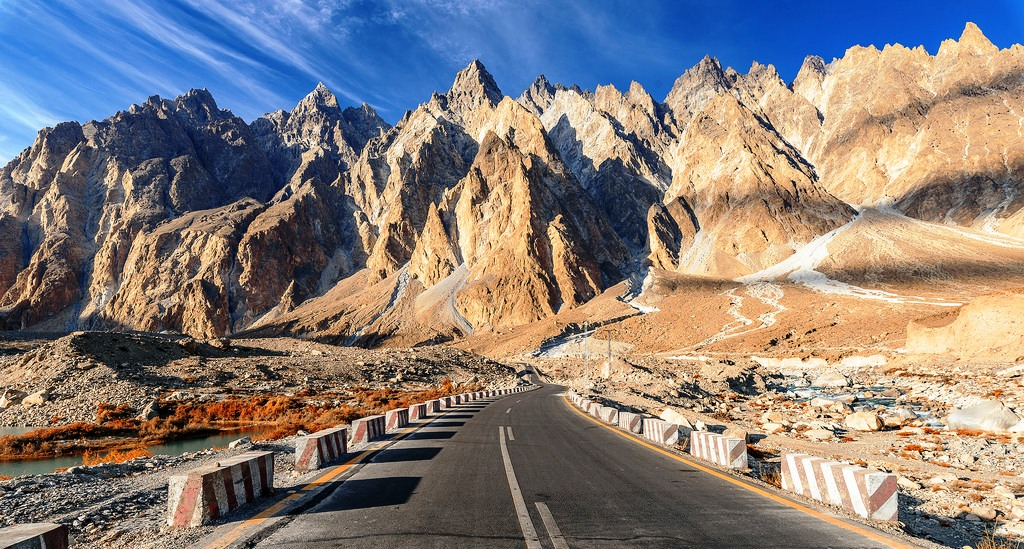straightRoad: (426, 388, 642, 549)
